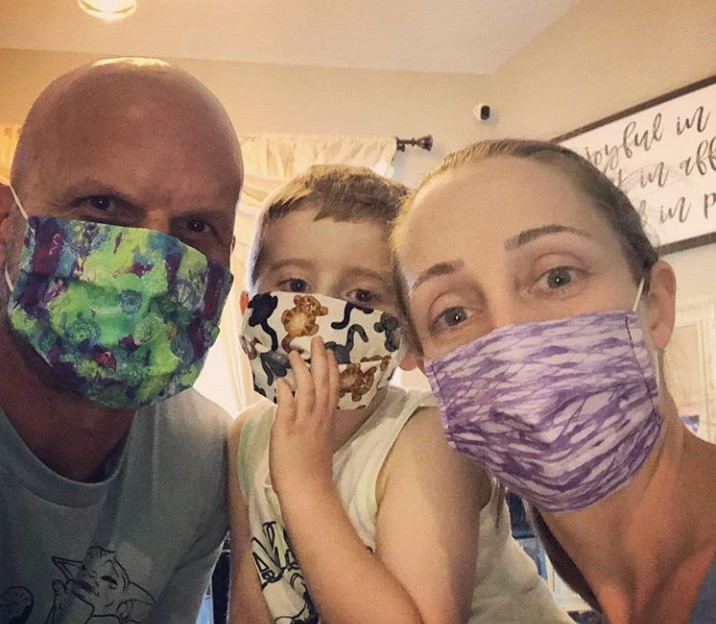face_with_mask: (388, 137, 681, 515), (2, 58, 245, 412), (238, 161, 420, 417)
